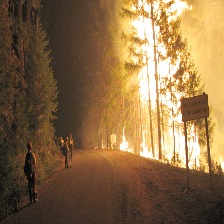fire: (129, 1, 206, 170), (95, 132, 135, 153)
